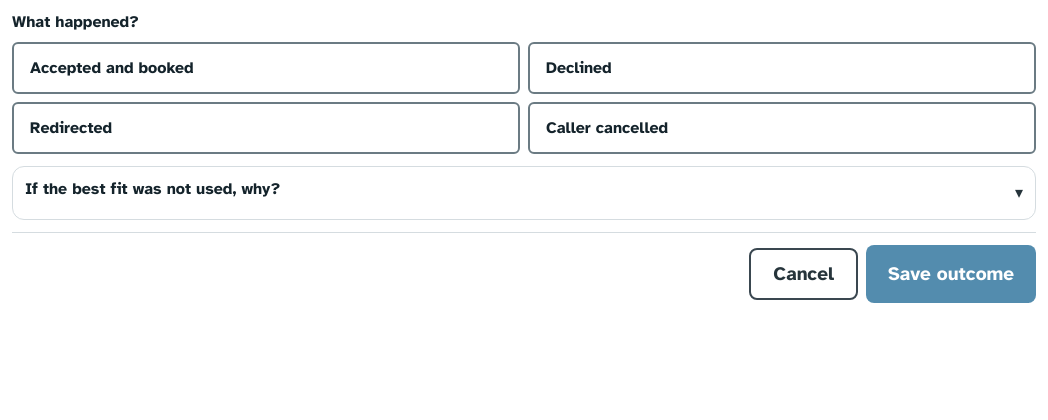
it: the services offered as the destination (KI-349) › asks the back end for the viewer's own services only, and never offers a network service
Click the button "Accepted and booked": (112, 68) [12,42,520,94]
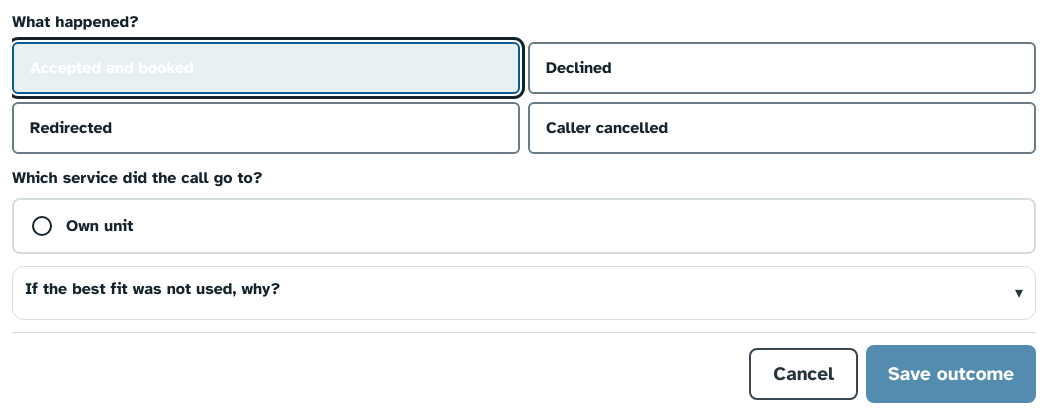
Expected: the button "Own unit" is shown, [12,198,1036,254]
